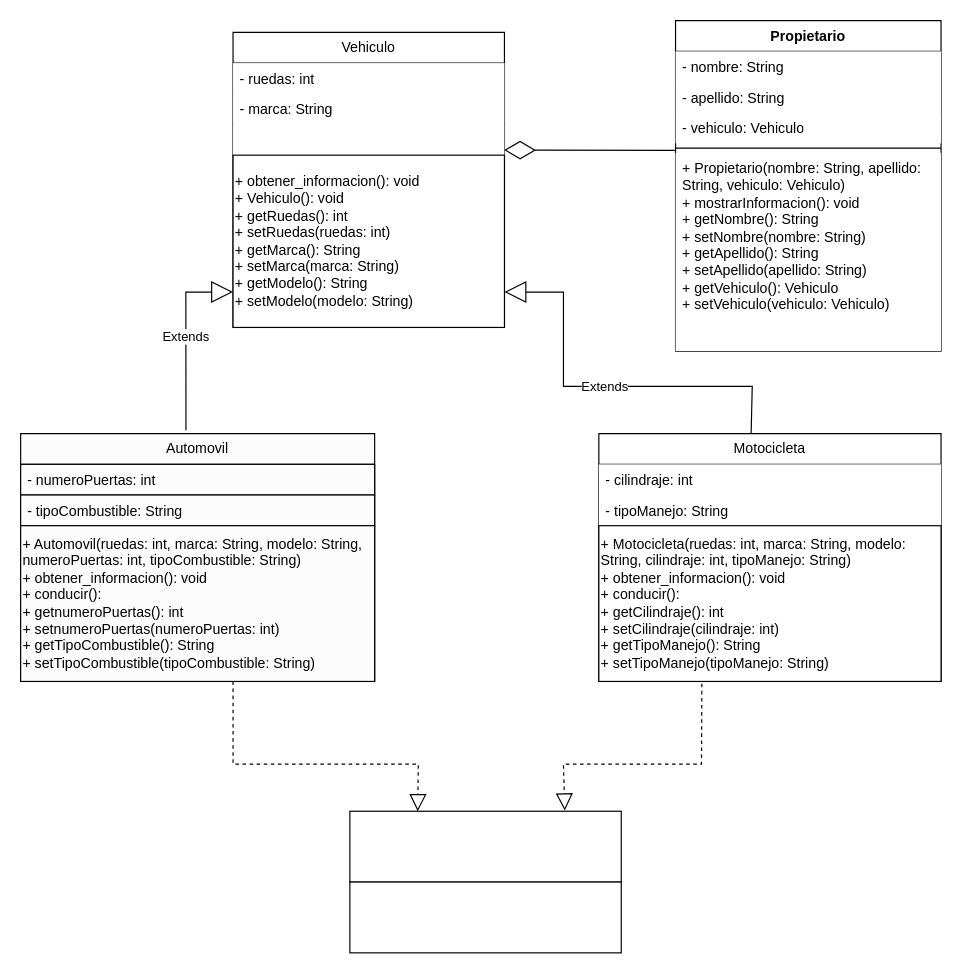
The diagram is 962 pixels wide and 973 high, and some of its shapes have lost their labels. The centre of each missing label's shape, as x and y in pixels:
"+ conducir(): void" belongs at (x=485, y=917).
"- modelo: String" belongs at (x=368, y=139).
"«interface» Conducible" belongs at (x=485, y=846).
